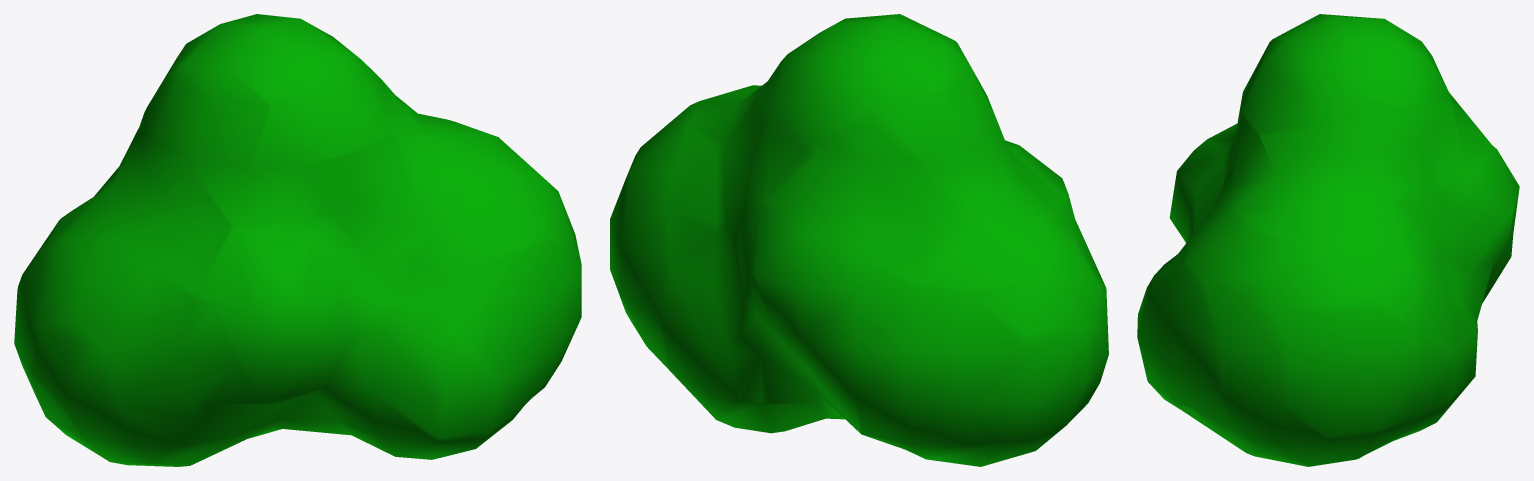
Rendered from Buisson.fbx.
3 views of the same model, side by side, from view 1: azimuth 30°, elevation 25°; view 2: azimuth 150°, elevation 25°; view 3: azimuth 270°, elevation 25° (orthographic). The views are drawn at different scales.
Parts seen in each view (by area): view 1: Buisson; view 2: Buisson; view 3: Buisson.
Part boxes in pixels (x1,y1,x2,y2): Buisson: (14, 14, 581, 466); Buisson: (610, 14, 1108, 466); Buisson: (1137, 14, 1519, 466).
Bounding box in the file's own units: 320 × 257 × 240.
